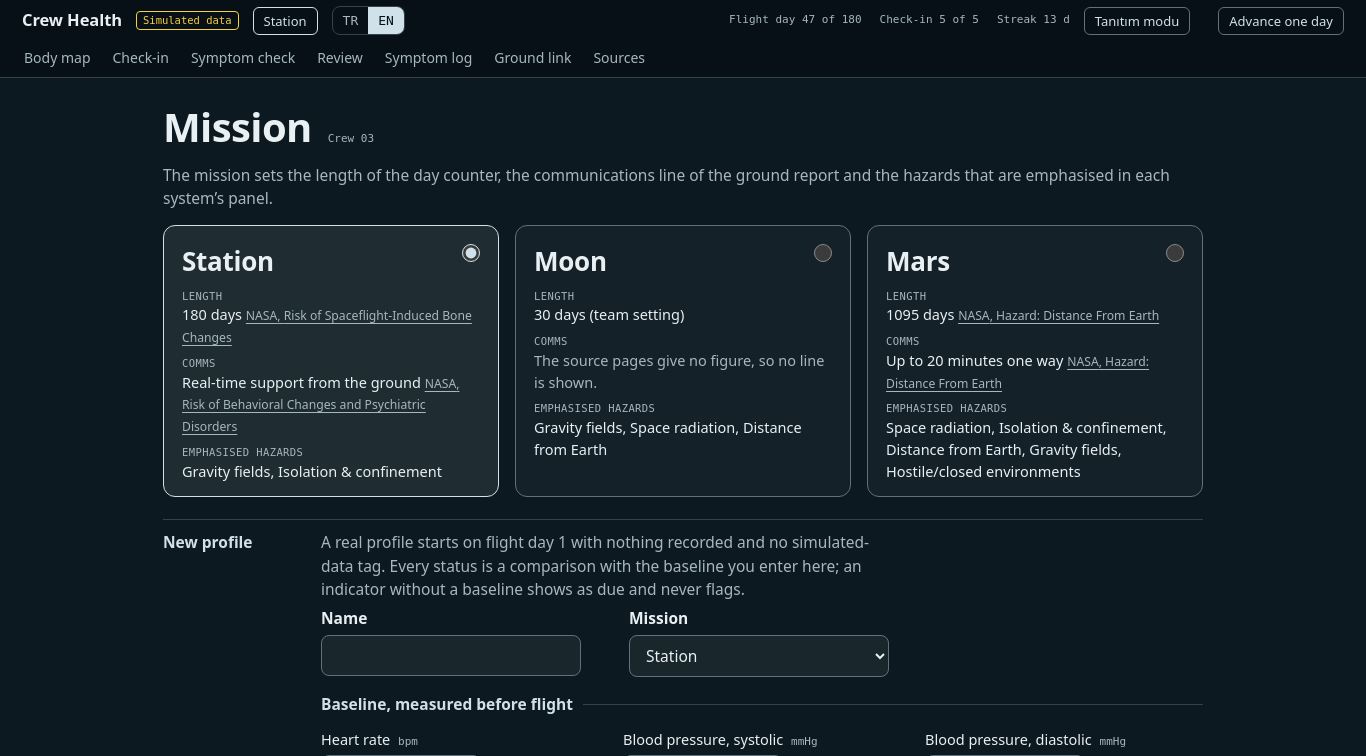
Scenario: choosing Mars changes the counter and shows the delay
Click the 3rd radio button at [1175, 252], box [1166,244,1184,262]
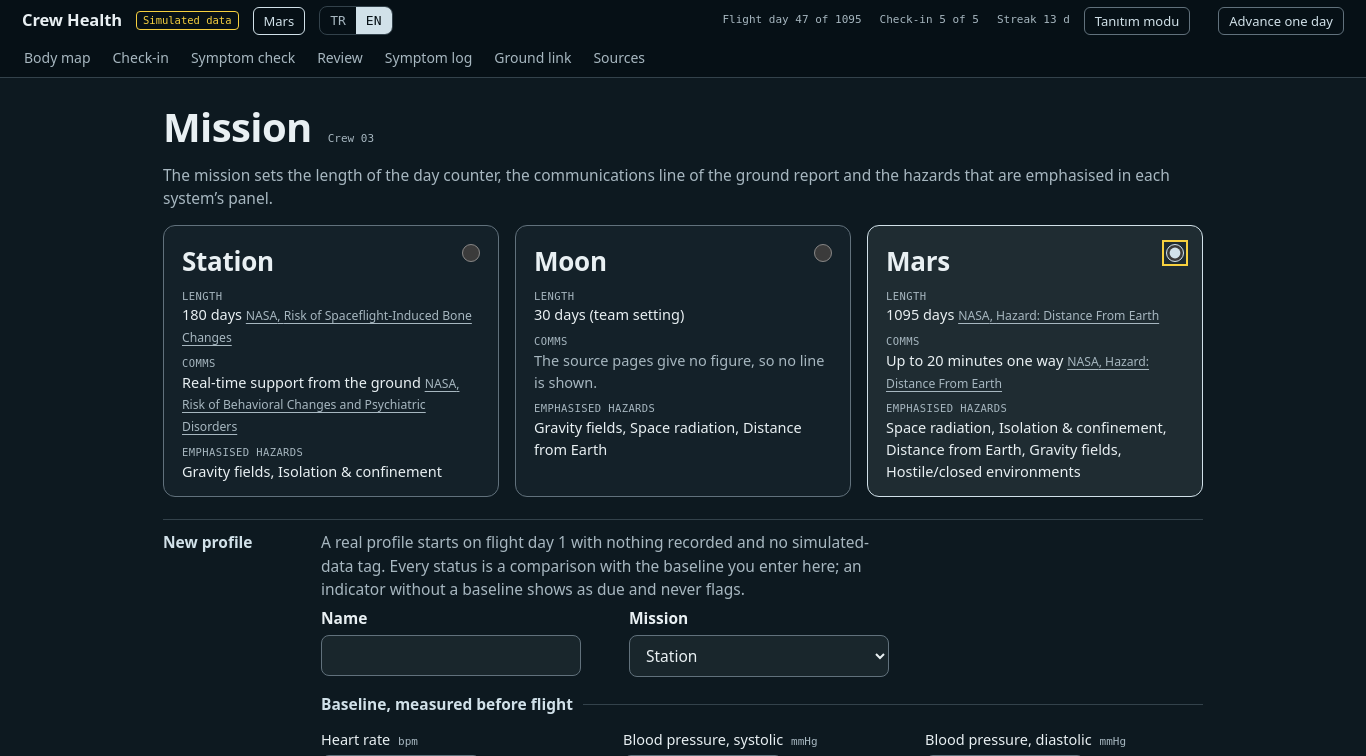
Expected: the text "Flight day 47 of 1095" is shown, [722,12,862,29]
Expected: the button with aria-label "Mission: Mars" is shown, [252,6,305,34]
